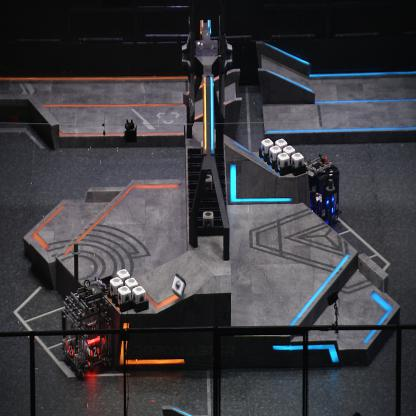car: (62, 277, 113, 376), (304, 156, 341, 222)
